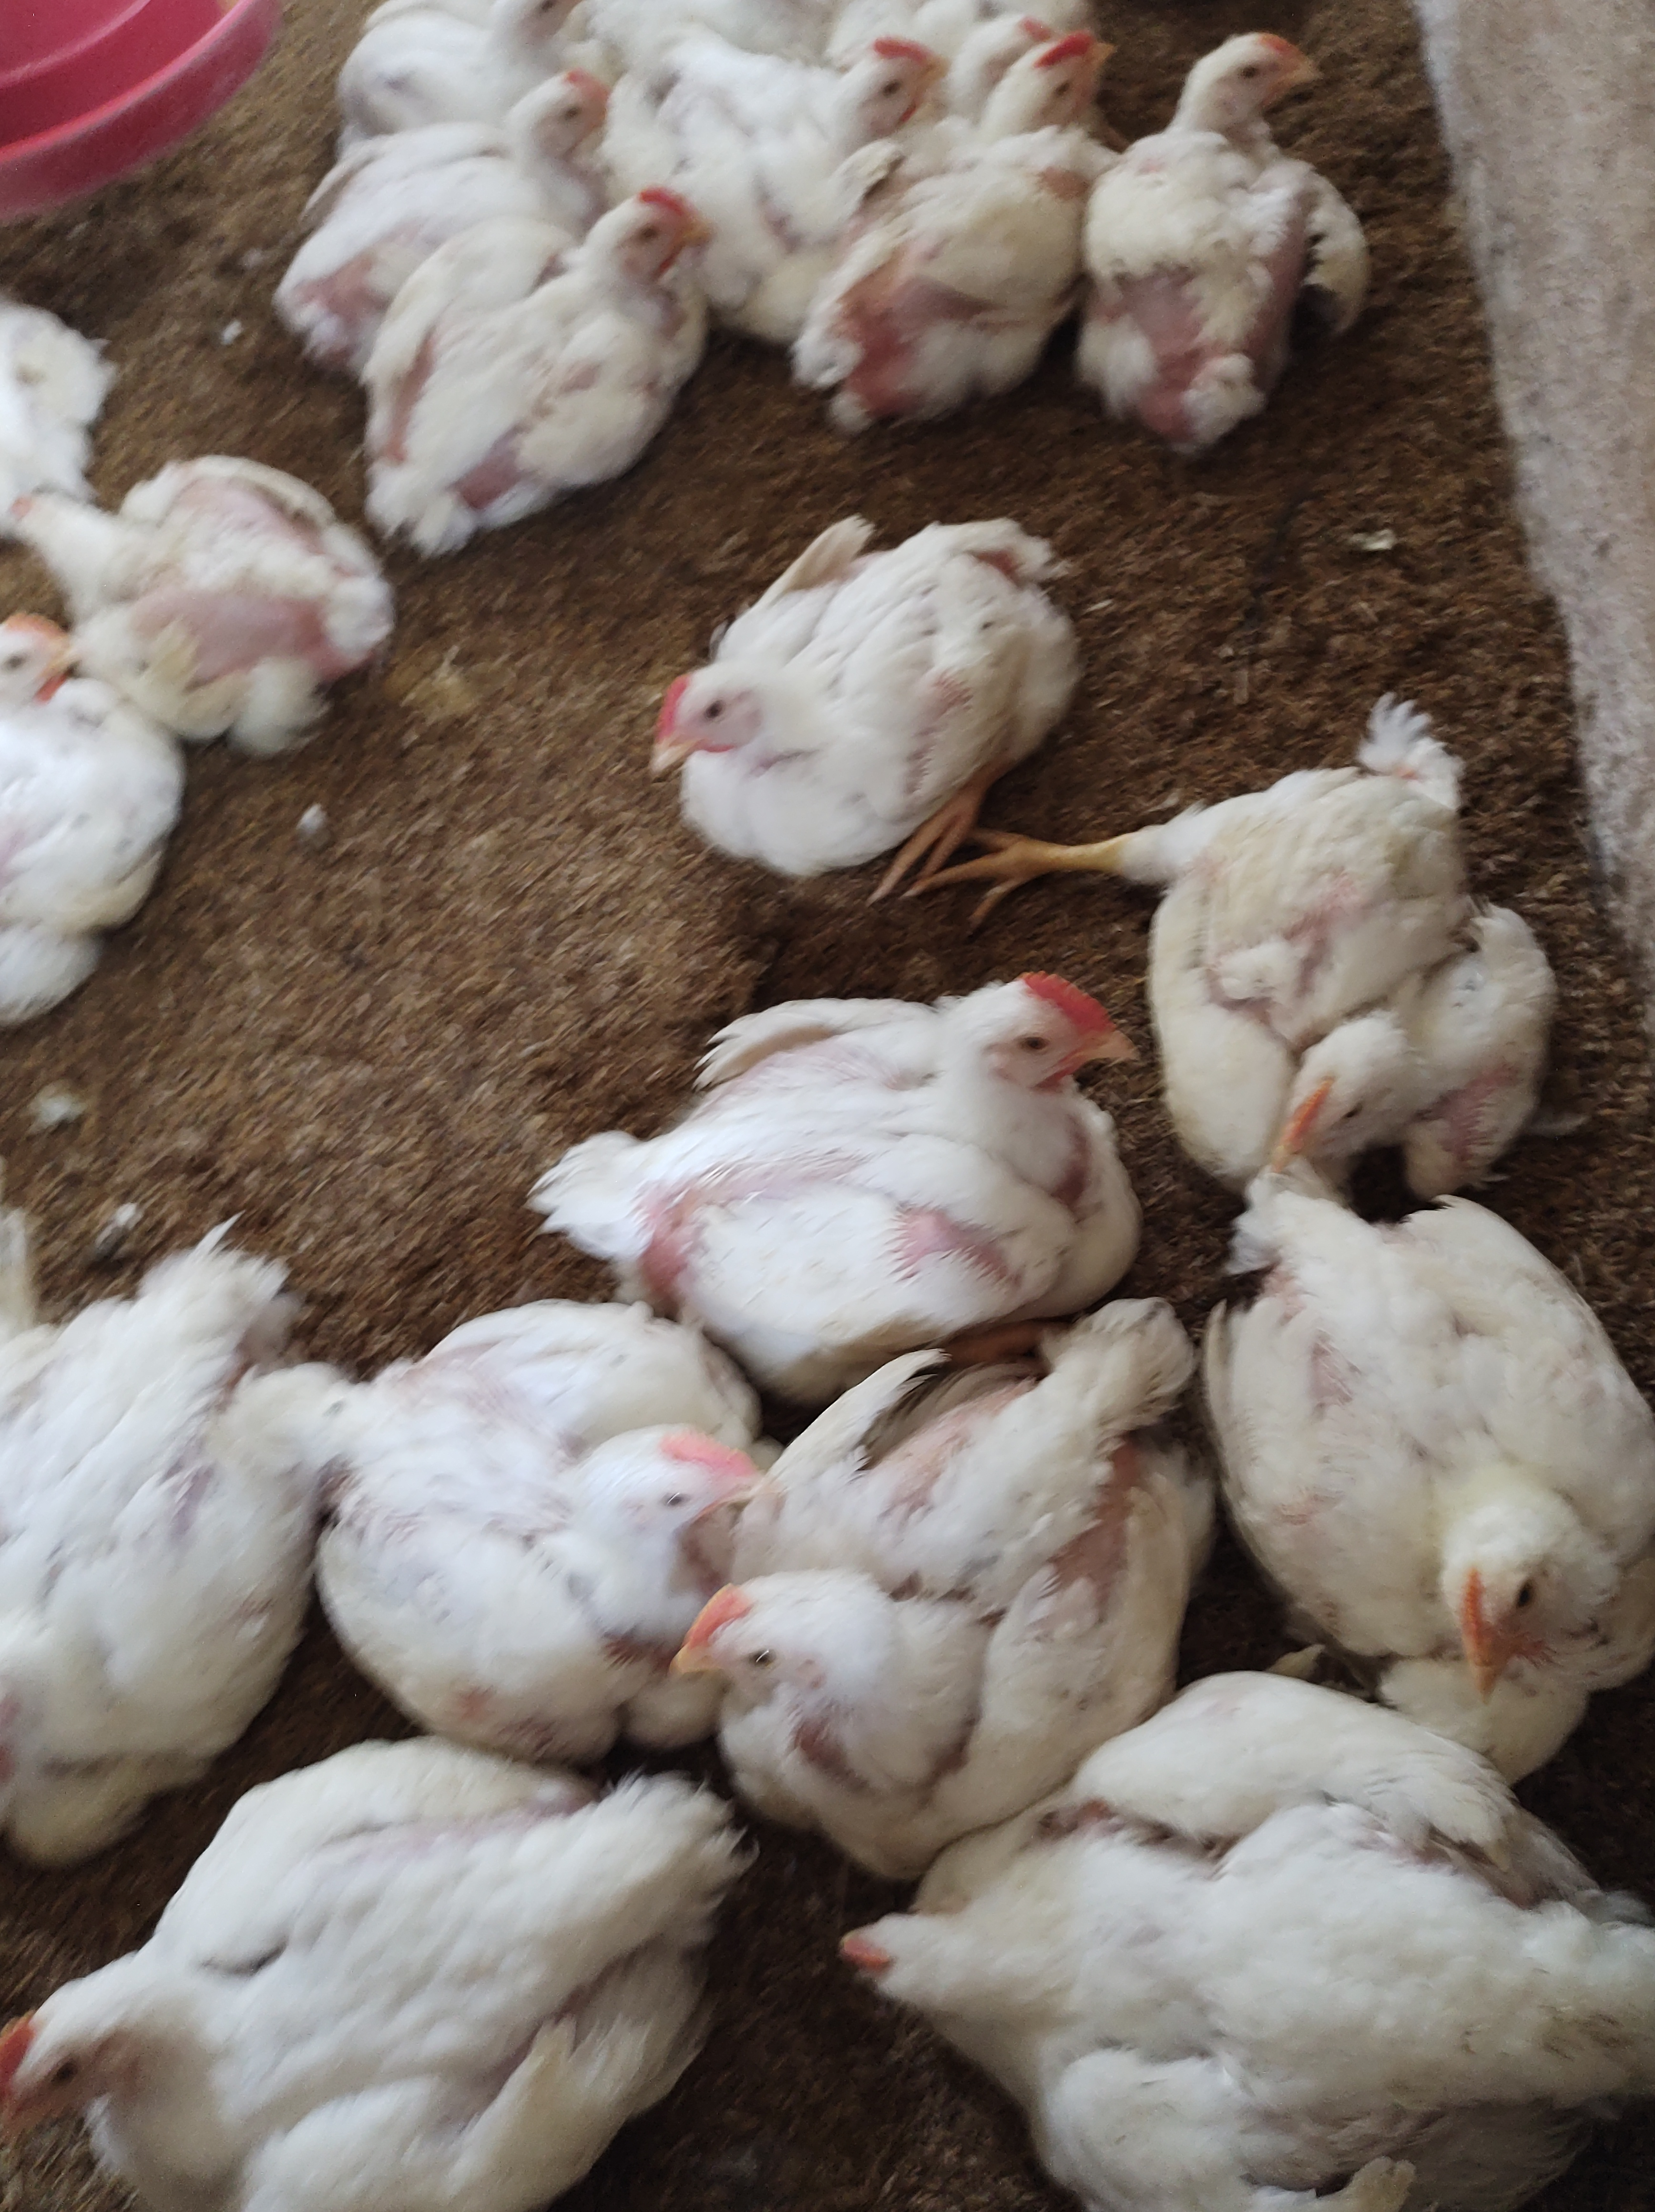Pollos: (0, 1732, 774, 2212), (852, 1833, 1655, 2207), (1206, 1160, 1655, 1800), (0, 1223, 396, 1857), (678, 1388, 1158, 1862), (527, 956, 1153, 1320), (629, 496, 1071, 932), (1114, 762, 1554, 1169), (337, 198, 692, 523), (17, 461, 405, 743), (1120, 9, 1361, 456), (348, 1315, 746, 1577), (0, 607, 169, 1024), (958, 33, 1114, 423), (678, 14, 968, 223), (377, 54, 619, 209)
